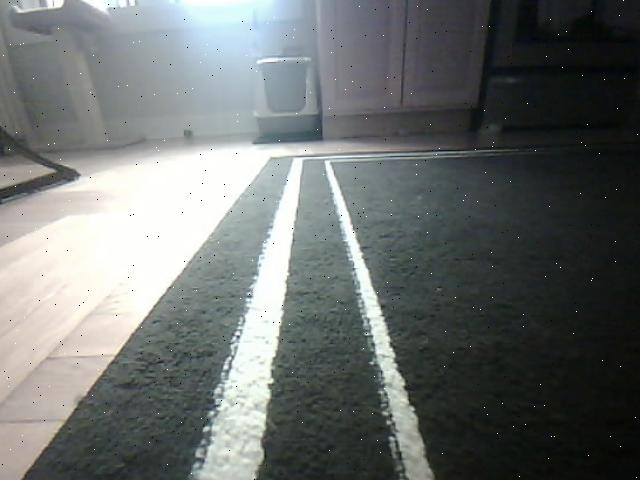road-line: (182, 180, 302, 480), (328, 181, 439, 480)
